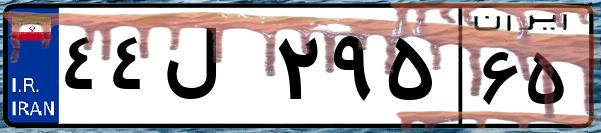2: (270, 28, 330, 110)
4: (57, 26, 110, 100), (110, 28, 158, 98)
5: (385, 28, 445, 110), (525, 38, 570, 115)
6: (475, 38, 525, 113)
9: (330, 28, 385, 110)
ل: (158, 20, 270, 120)
